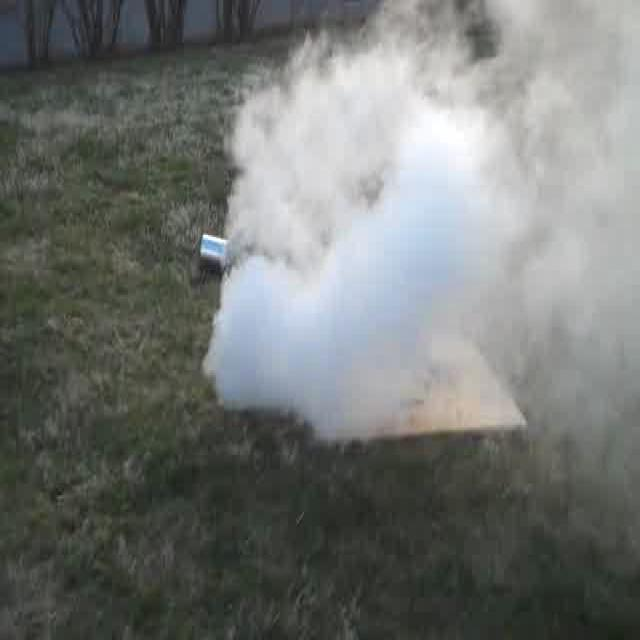Smoke: (218, 49, 553, 404)
